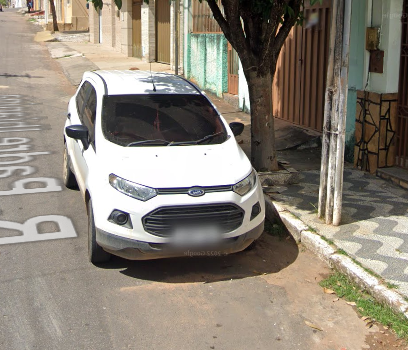car: (59, 55, 269, 279)
